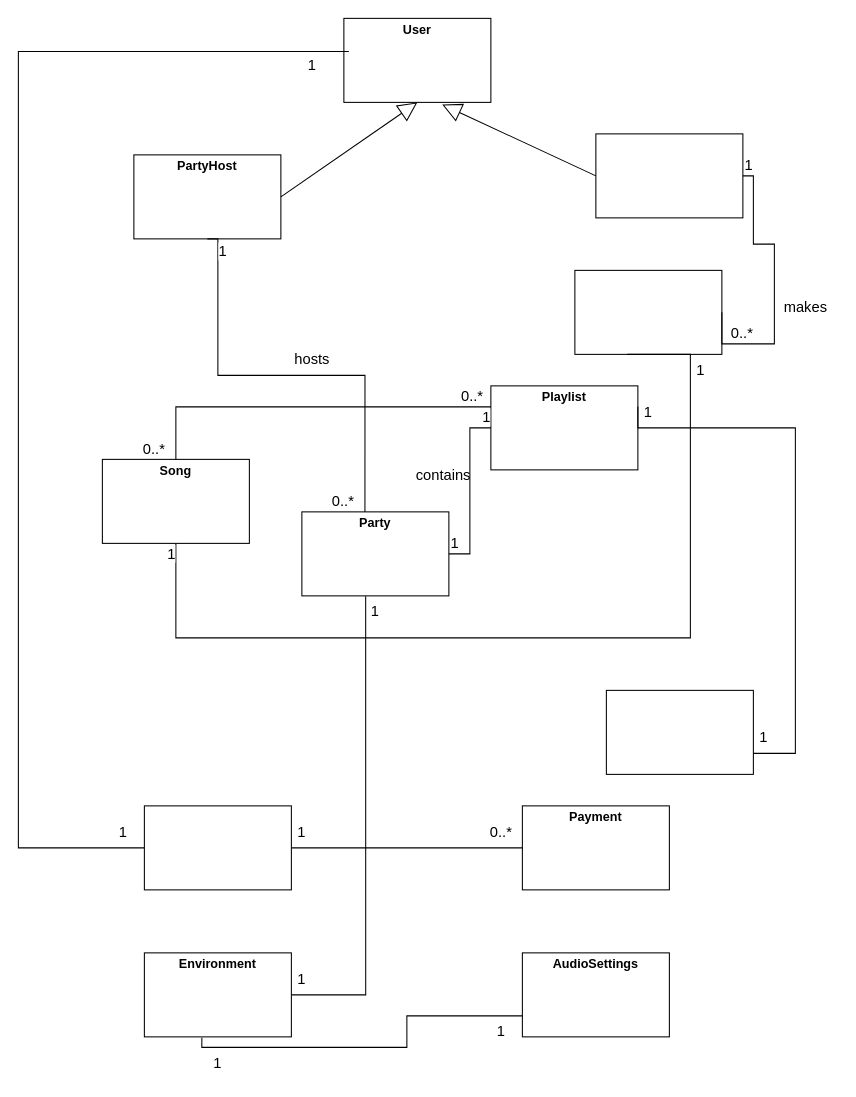
Some shapes in this 856 by 1097 pixel diagram are drawn without their labels. Here are the shapes that lost their labels. From the top down, the centre of each, then its label:
At pixel 669 175: "PartyGuest".
At pixel 648 311: "SongRequest".
At pixel 679 731: "LightingSystem".
At pixel 217 847: "Subscription".
